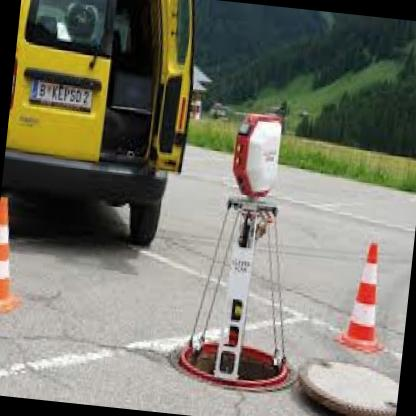manholes: (150, 260, 312, 413)
